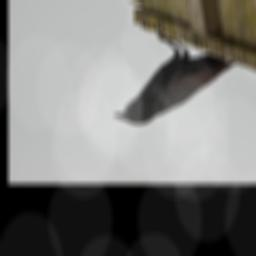Crow: (113, 32, 236, 126)
